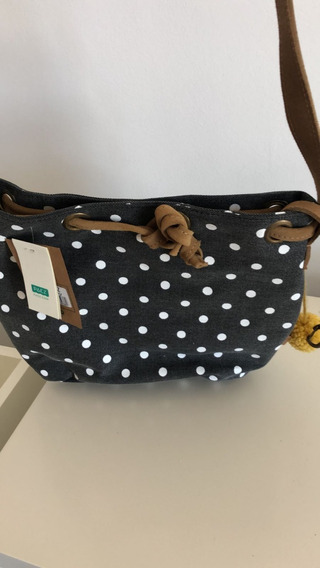cartera: (1, 177, 320, 386)
